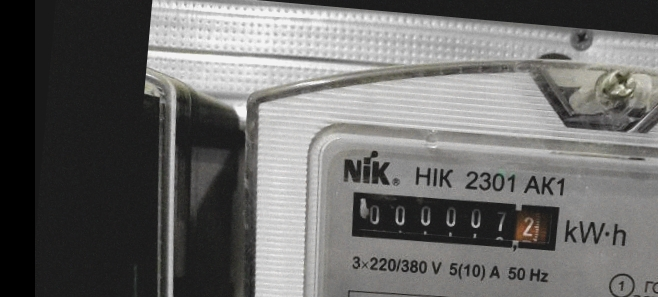0: (367, 201, 383, 226), (444, 204, 460, 228), (419, 203, 434, 227), (469, 205, 484, 229), (393, 203, 407, 226)
2: (521, 214, 536, 238)
7: (494, 208, 508, 233)
screen: (339, 177, 571, 263)
